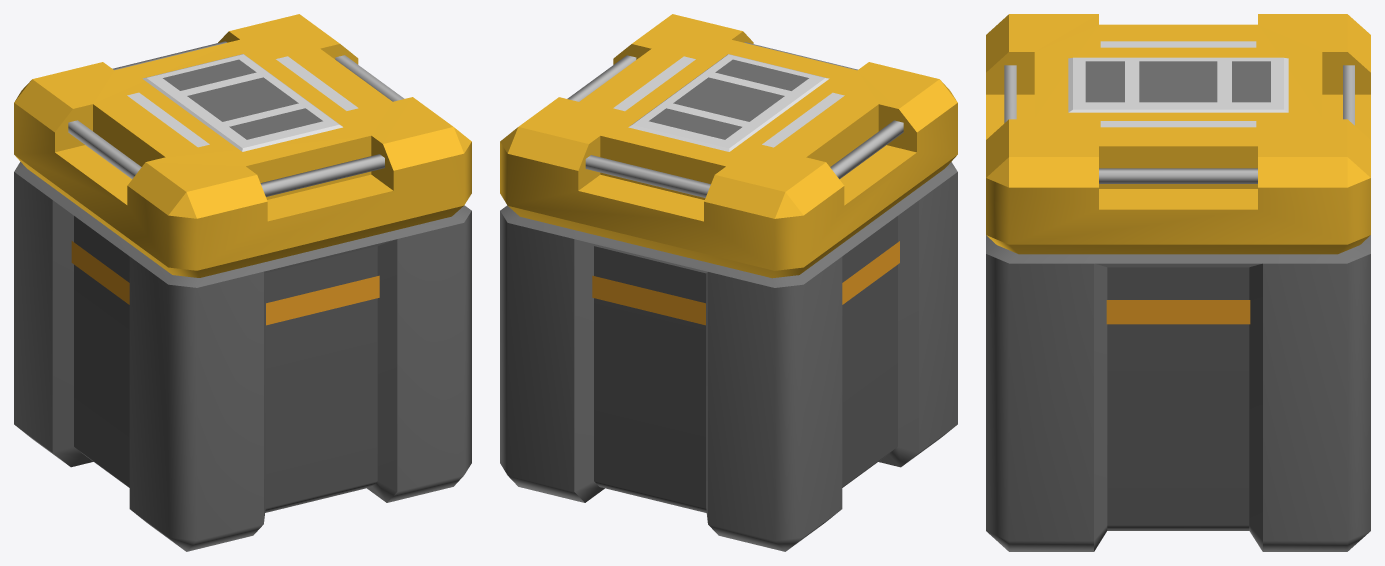
The model's file is prop_003.fbx.
3 views of the same model, side by side, from view 1: azimuth 30°, elevation 25°; view 2: azimuth 150°, elevation 25°; view 3: azimuth 270°, elevation 25° (orthographic). The views are drawn at different scales.
Visible parts, largest first — view 1: prop_003; view 2: prop_003; view 3: prop_003.
Boxes of the visible parts, x1,y1,x2,y2 form: prop_003: (14,14,471,551); prop_003: (500,14,957,551); prop_003: (986,14,1370,551).
Bounding box in the file's own units: 112 × 112 × 128.
